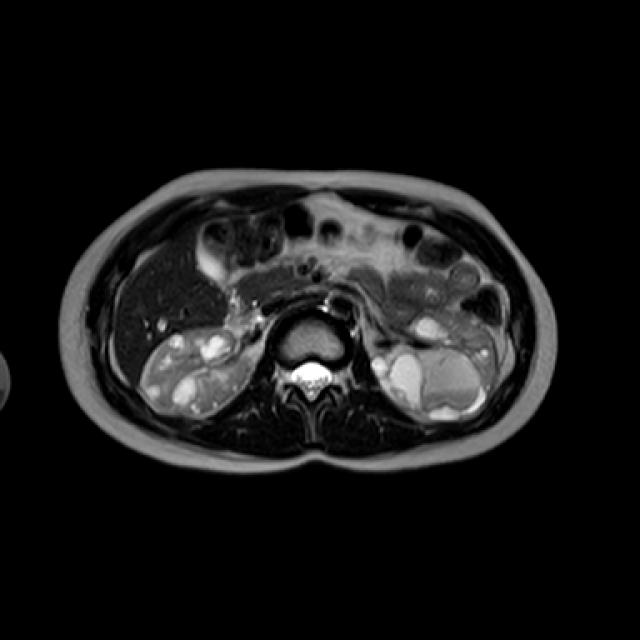Sol: (372, 305, 494, 423)
sag: (144, 327, 253, 413)
